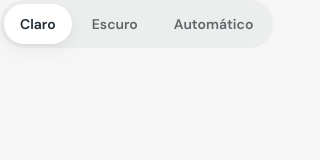
SegmentedControl › é um radiogroup navegável pelas setas
Expected: the element named "Tema" is shown, [0,0,273,48]
Step 1. Click the radio button labelled "Claro" → (38, 24), box [4,4,72,44]
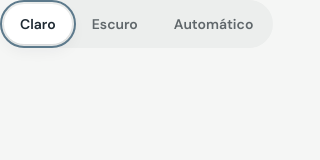
Step 2. Press Arrowright
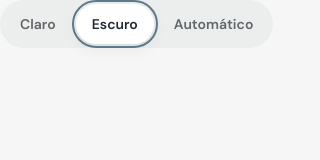
Expected: the radio button labelled "Escuro" is checked, [76,4,154,44]
Step 3. Press Arrowleft Arrowleft
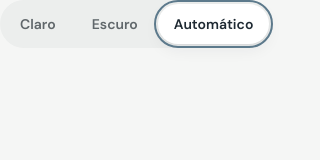
Expected: the radio button labelled "Automático" is checked, [158,4,269,44]
